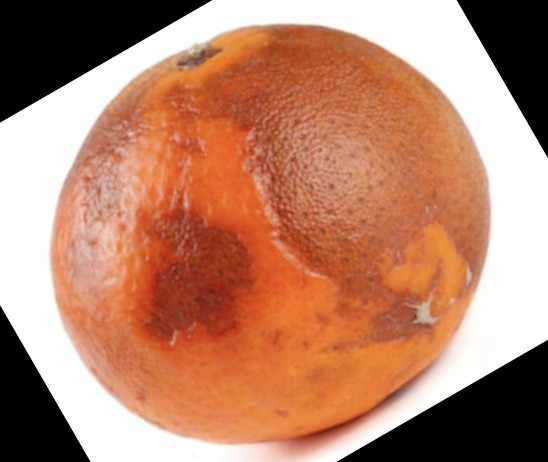rotten_orange: (56, 29, 490, 443)
